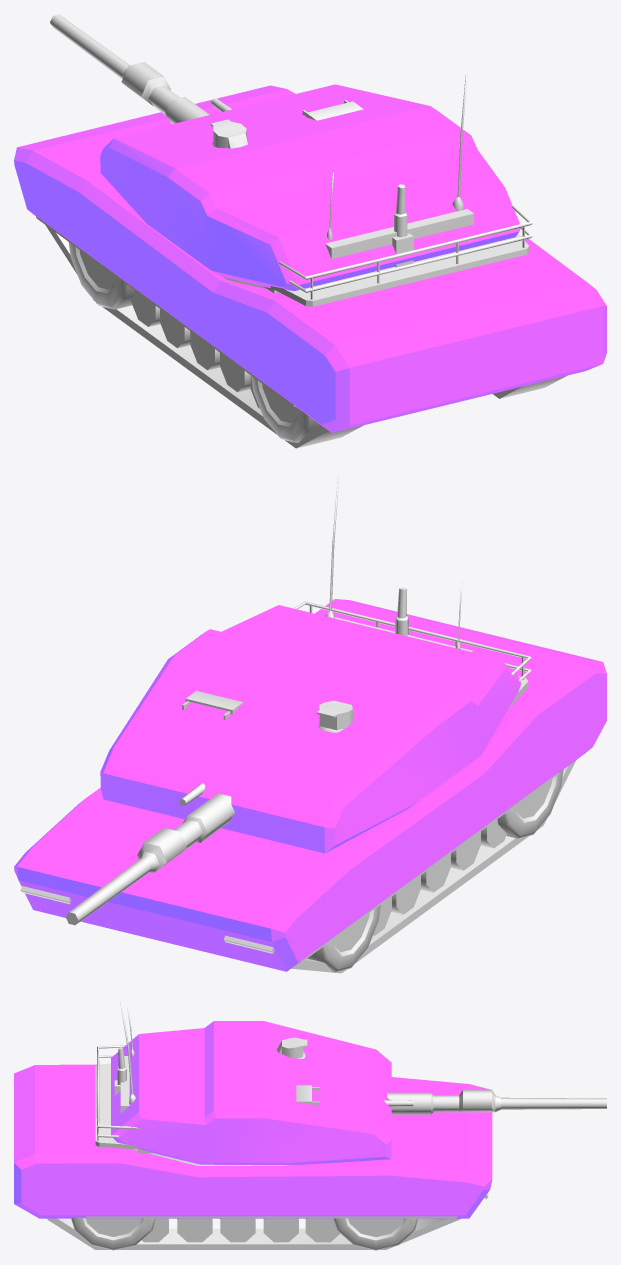
Rendered from Tank.fbx.
3 renders of one model, top to bottom at view 1: azimuth 30°, elevation 25°; view 2: azimuth 150°, elevation 25°; view 3: azimuth 270°, elevation 25°, orthographic. The views are drawn at different scales.
Parts seen in each view (by area): view 1: TankProxy, TankGlass, Tank, TankWheel_LF, TankWheel_LB; view 2: TankProxy, TankGlass, Tank, TankWheel_LB, TankWheel_LF; view 3: TankProxy, Tank, TankGlass, TankWheel_RF, TankWheel_RB.
Part boxes in pixels (box(x1,y1,x2,y2)): TankProxy: box(14, 84, 606, 432); TankGlass: box(50, 14, 532, 306); Tank: box(36, 216, 566, 448); TankWheel_LF: box(68, 242, 134, 309); TankWheel_LB: box(251, 375, 320, 442); TankProxy: box(14, 599, 606, 971); TankGlass: box(65, 477, 531, 925); Tank: box(20, 760, 576, 973); TankWheel_LB: box(497, 769, 563, 838); TankWheel_LF: box(307, 904, 380, 972); TankProxy: box(14, 1021, 492, 1218); Tank: box(47, 1193, 488, 1249); TankGlass: box(95, 1002, 606, 1165); TankWheel_RF: box(333, 1218, 417, 1250); TankWheel_RB: box(71, 1217, 155, 1250).
Bounding box in the file's own units: 3.7 × 9.74 × 4.1.
